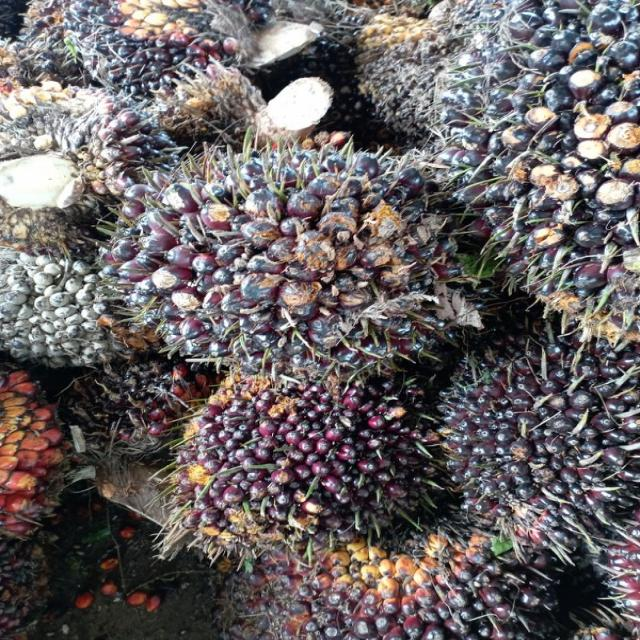fraksi 00: (418, 0, 640, 332), (96, 155, 466, 352), (434, 327, 640, 532), (44, 0, 255, 99)
fraksi 1: (172, 362, 407, 542)
